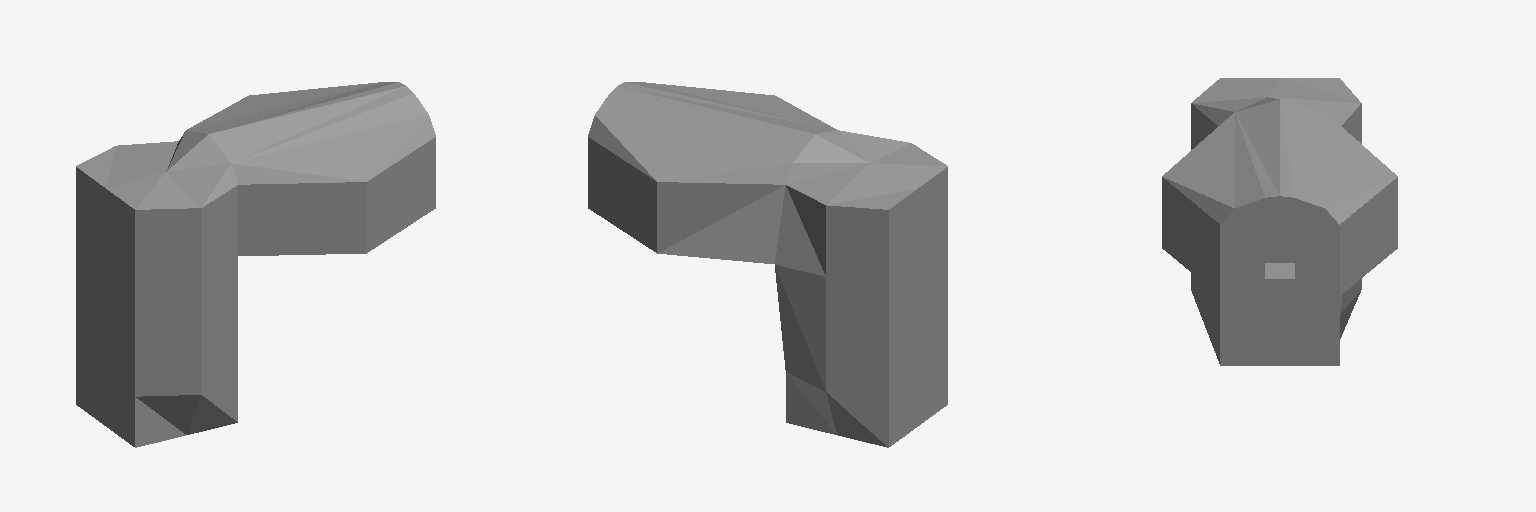
Rendered from torre2c.obj.
3 renders of one model, left to right at view 1: azimuth 30°, elevation 25°; view 2: azimuth 150°, elevation 25°; view 3: azimuth 270°, elevation 25°, orthographic.
Parts seen in each view (by area): view 1: Cube; view 2: Cube; view 3: Cube.
Boxes of the visible parts, x1,y1,x2,y2 form: Cube: [76, 82, 435, 447]; Cube: [588, 82, 947, 447]; Cube: [1162, 78, 1397, 365].
Bounding box in the file's own units: 2.92 × 2.47 × 1.98.